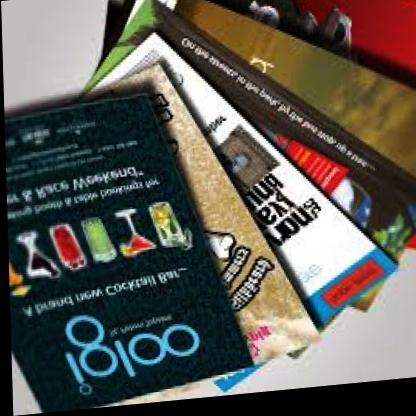Paper: (4, 0, 416, 405)
